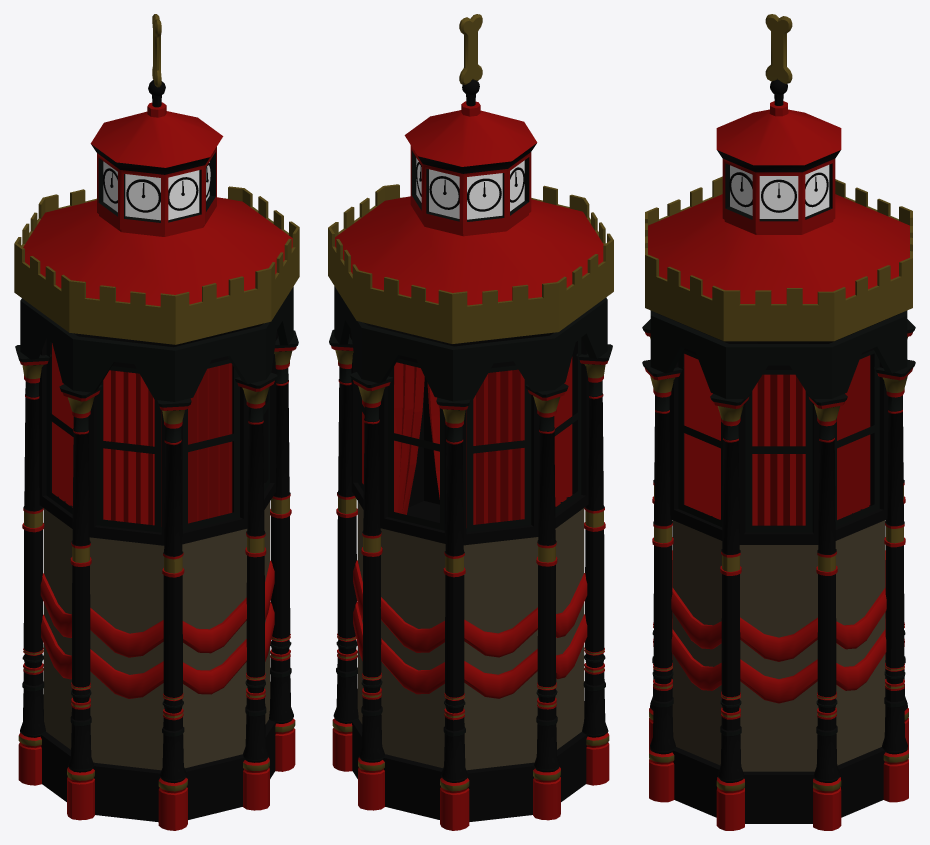
File: boxoffice.fbx
3 views of the same model, side by side, from view 1: azimuth 30°, elevation 25°; view 2: azimuth 150°, elevation 25°; view 3: azimuth 270°, elevation 25° (orthographic).
Visible parts, largest first — view 1: bod, columns, curtains, crenelle, Cylinder_1_9, cloths, windows, Cylinder_1, Cylinder_1_8, dogbiscuit2; view 2: bod, columns, crenelle, curtains, Cylinder_1_9, cloths, windows, dogbiscuit2, Cylinder_1_3, Cylinder_1_4; view 3: bod, columns, curtains, crenelle, Cylinder_1_9, cloths, windows, dogbiscuit2, Cylinder_1_6, Cylinder_1_7, Cylinder_1_5.
Boxes of the visible parts, x1,y1,x2,y2 form: bod: (23, 95, 292, 822); columns: (15, 330, 298, 830); curtains: (52, 343, 232, 526); crenelle: (14, 186, 299, 344); Cylinder_1_9: (20, 286, 293, 401); cloths: (40, 560, 274, 698); windows: (46, 338, 269, 532); Cylinder_1: (126, 179, 160, 212); Cylinder_1_8: (168, 177, 198, 210); dogbiscuit2: (152, 14, 161, 87); bod: (335, 94, 603, 821); columns: (329, 329, 612, 830); crenelle: (328, 184, 613, 343); curtains: (362, 357, 572, 527); Cylinder_1_9: (334, 286, 607, 401); cloths: (353, 560, 587, 698); windows: (358, 337, 581, 532); dogbiscuit2: (459, 14, 482, 84); Cylinder_1_3: (467, 178, 501, 211); Cylinder_1_4: (429, 176, 459, 209); bod: (648, 94, 909, 823); columns: (642, 319, 915, 830); curtains: (684, 354, 870, 525); crenelle: (645, 176, 912, 341); Cylinder_1_9: (650, 310, 907, 398); cloths: (671, 550, 886, 703); windows: (678, 350, 879, 532); dogbiscuit2: (765, 14, 792, 83); Cylinder_1_6: (761, 179, 796, 212); Cylinder_1_7: (729, 172, 752, 207); Cylinder_1_5: (805, 172, 828, 207).
Size of the model in its own units: 966 by 2962 by 966.
